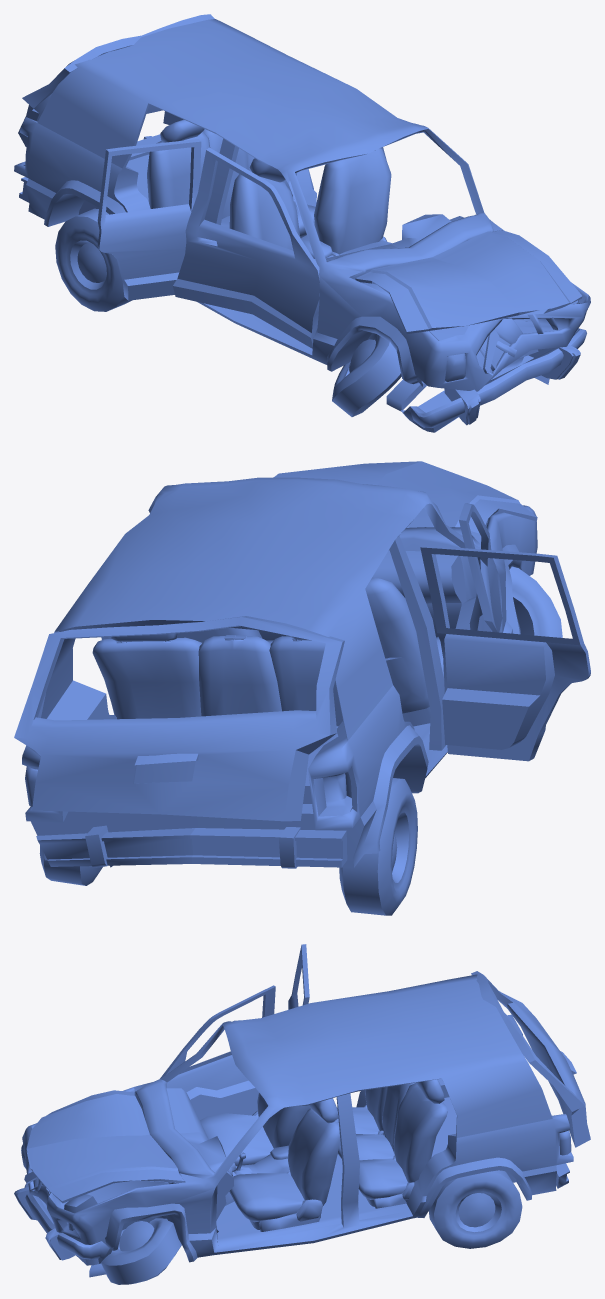
Rendered from xe_hong.fbx.
3 views of the same model, one above another, from view 1: azimuth 30°, elevation 25°; view 2: azimuth 150°, elevation 25°; view 3: azimuth 270°, elevation 25° (orthographic). The views are drawn at different scales.
Parts seen in each view (by area): view 1: KUZA, KAPOT, DRONT-QAPI, BACK-QAPI, FRONT-BUFER, TEKER.001, TEKER, BAQAJ; view 2: KUZA, BAQAJ, BACK-QAPI, KAPOT, TEKER.001, DRONT-QAPI, TEKER, TEKER.002; view 3: KUZA, KAPOT, TEKER.002, DRONT-QAPI, BAQAJ, TEKER.003, FRONT-BUFER, BACK-QAPI.
Boxes of the visible parts, bbox=[...] form: KUZA: bbox=[14, 19, 590, 411]; KAPOT: bbox=[355, 230, 582, 334]; DRONT-QAPI: bbox=[173, 147, 319, 348]; BACK-QAPI: bbox=[97, 139, 201, 300]; FRONT-BUFER: bbox=[400, 328, 586, 432]; TEKER.001: bbox=[55, 208, 131, 311]; TEKER: bbox=[332, 333, 401, 416]; BAQAJ: bbox=[18, 14, 214, 147]; KUZA: bbox=[22, 477, 537, 868]; BAQAJ: bbox=[14, 616, 344, 821]; BACK-QAPI: bbox=[420, 545, 590, 761]; KAPOT: bbox=[273, 461, 537, 533]; TEKER.001: bbox=[339, 778, 417, 915]; DRONT-QAPI: bbox=[455, 503, 502, 632]; TEKER: bbox=[509, 566, 562, 637]; TEKER.002: bbox=[39, 845, 102, 885]; KUZA: bbox=[21, 974, 573, 1277]; KAPOT: bbox=[26, 1090, 184, 1203]; TEKER.002: bbox=[428, 1170, 522, 1248]; DRONT-QAPI: bbox=[160, 985, 275, 1119]; BAQAJ: bbox=[471, 971, 590, 1147]; TEKER.003: bbox=[101, 1218, 181, 1284]; FRONT-BUFER: bbox=[14, 1183, 113, 1265]; BACK-QAPI: bbox=[288, 944, 309, 1009].
Bounding box in the file's own units: 514 × 292 × 764.
